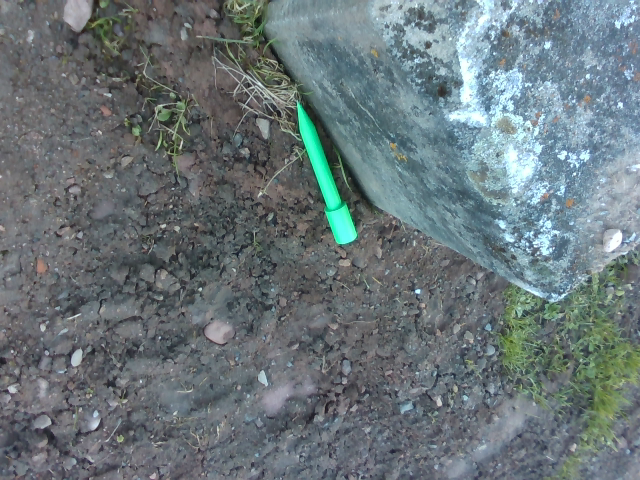Probe: (290, 86, 361, 250)
